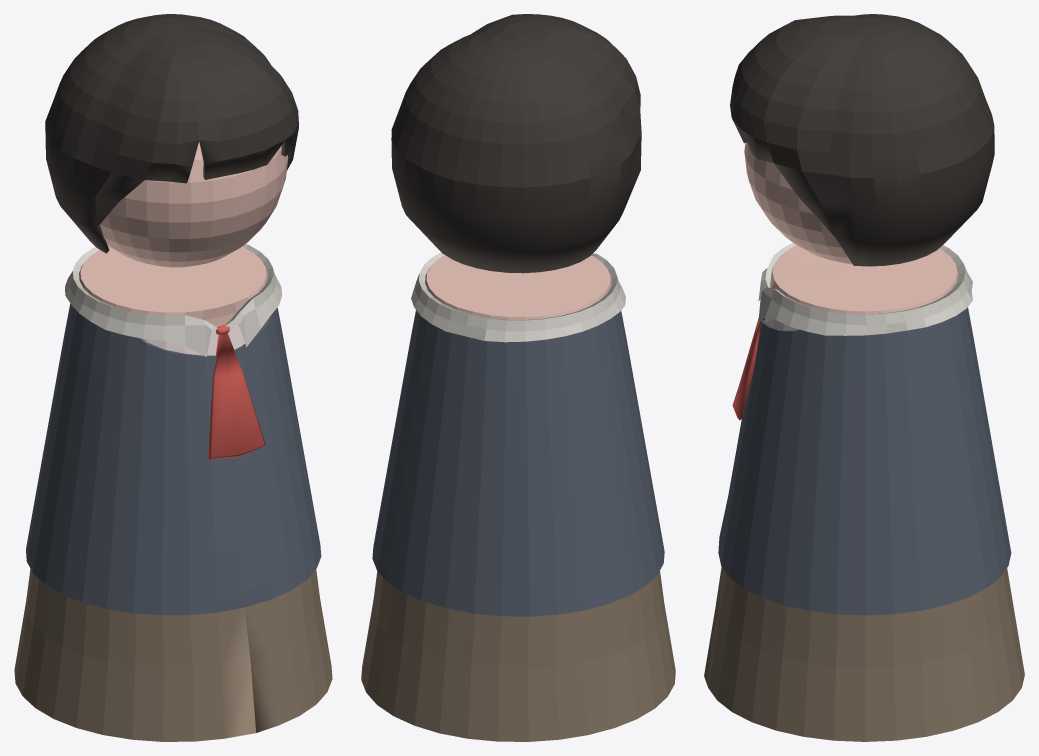
The model's file is char_student_1.fbx.
3 renders of one model, left to right at view 1: azimuth 30°, elevation 25°; view 2: azimuth 150°, elevation 25°; view 3: azimuth 270°, elevation 25°, orthographic.
Visible parts, largest first — view 1: npcM_body, npcM_body.002; view 2: npcM_body, npcM_body.002; view 3: npcM_body, npcM_body.002.
Boxes of the visible parts, x1,y1,x2,y2 form: npcM_body: (14,141,332,741); npcM_body.002: (45,14,298,253); npcM_body: (361,252,675,741); npcM_body.002: (391,14,641,273); npcM_body: (704,142,1024,741); npcM_body.002: (730,14,994,266).
Bounding box in the file's own units: 0.6921 × 1.55 × 0.6945.
